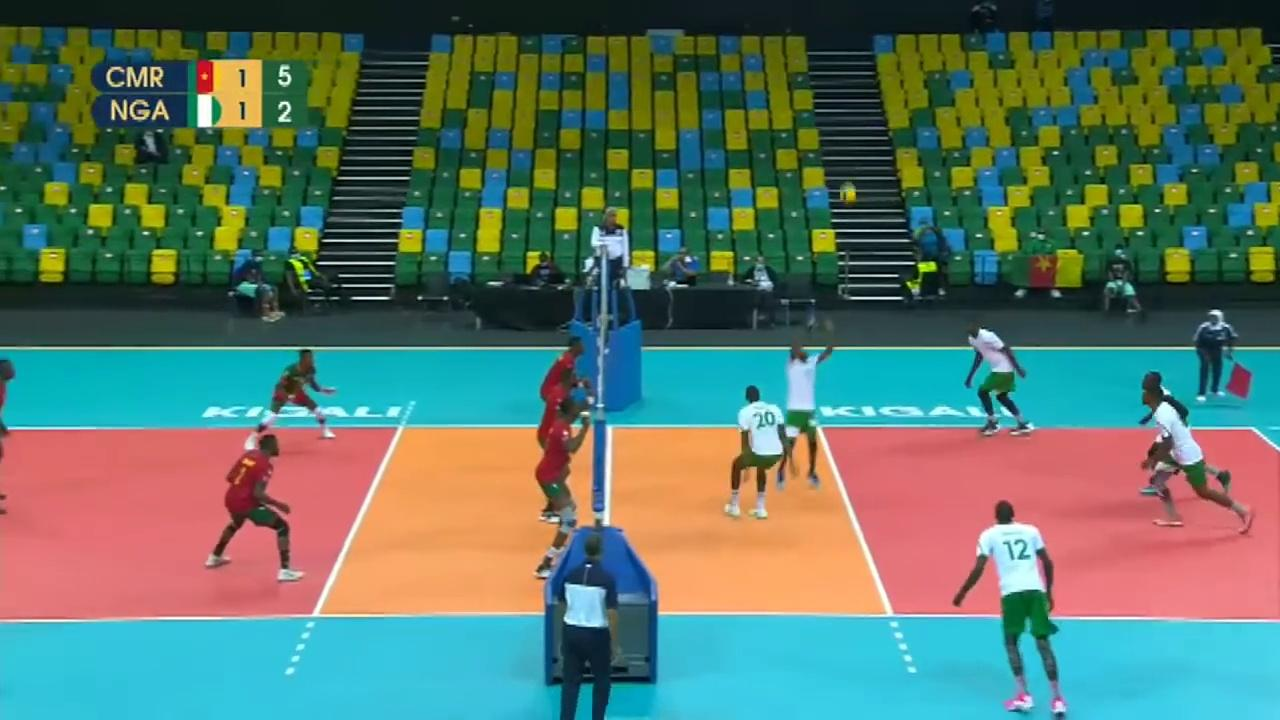player: (954, 500, 1064, 717), (1140, 391, 1261, 544), (206, 427, 307, 574), (1131, 373, 1234, 495), (774, 307, 839, 491), (529, 396, 590, 576), (726, 386, 788, 517), (536, 365, 587, 524), (963, 327, 1031, 436), (261, 342, 329, 450), (542, 335, 591, 471)
refree: (549, 534, 628, 719), (1195, 307, 1243, 402), (592, 204, 632, 313)
